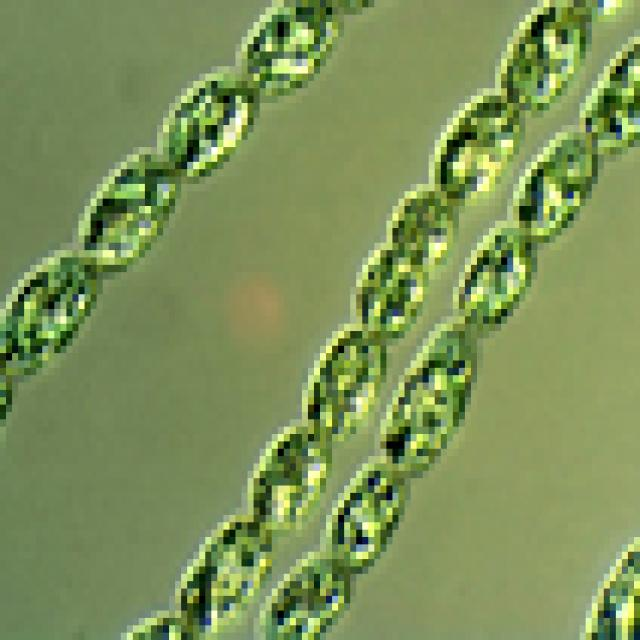Blue Green Algae: (374, 324, 483, 478), (163, 515, 266, 633), (79, 147, 175, 272), (151, 66, 254, 177), (507, 125, 598, 243), (429, 81, 519, 199), (320, 463, 411, 574), (6, 243, 91, 360), (242, 427, 332, 537), (447, 221, 537, 331), (302, 324, 386, 441), (495, 7, 592, 103), (253, 551, 356, 640), (236, 7, 338, 96), (579, 36, 640, 154), (356, 243, 429, 331), (380, 184, 453, 257)
